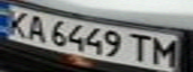4: (81, 25, 106, 56), (63, 22, 87, 52)
6: (45, 18, 69, 47)
9: (103, 28, 127, 58)
A: (21, 14, 51, 43)
K: (0, 8, 33, 37)
M: (148, 35, 184, 68)
T: (127, 30, 157, 63)
